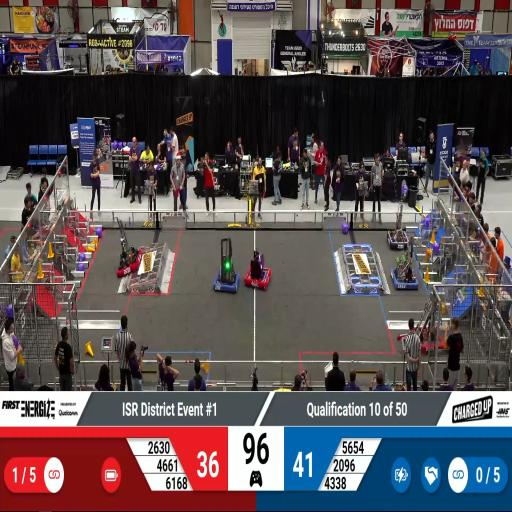robot: (416, 314, 446, 356), (211, 262, 240, 293), (244, 257, 272, 289), (116, 244, 141, 278), (386, 215, 408, 253), (391, 264, 417, 292)
